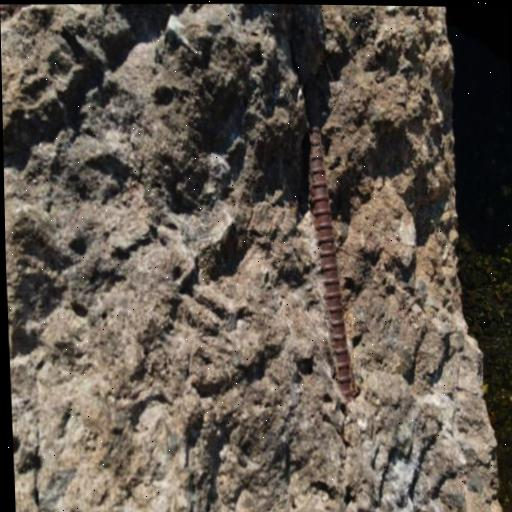exposed_rebar: (305, 80, 353, 402)
